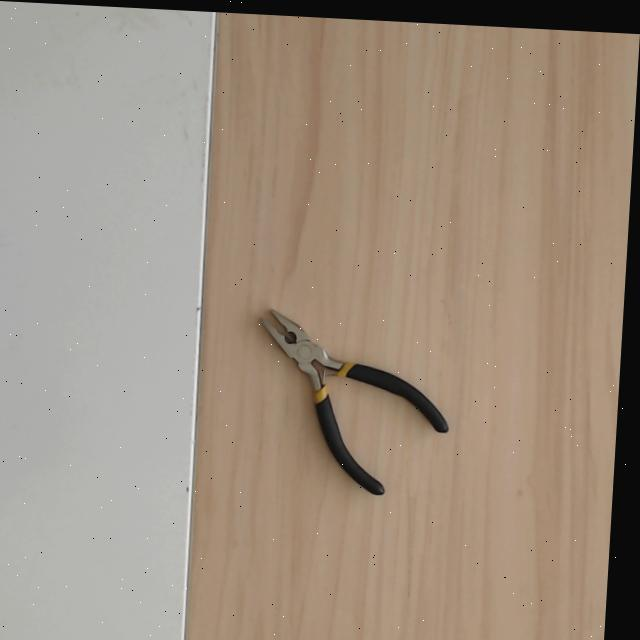Tang-Jepit-Hitam: (227, 275, 454, 501)
